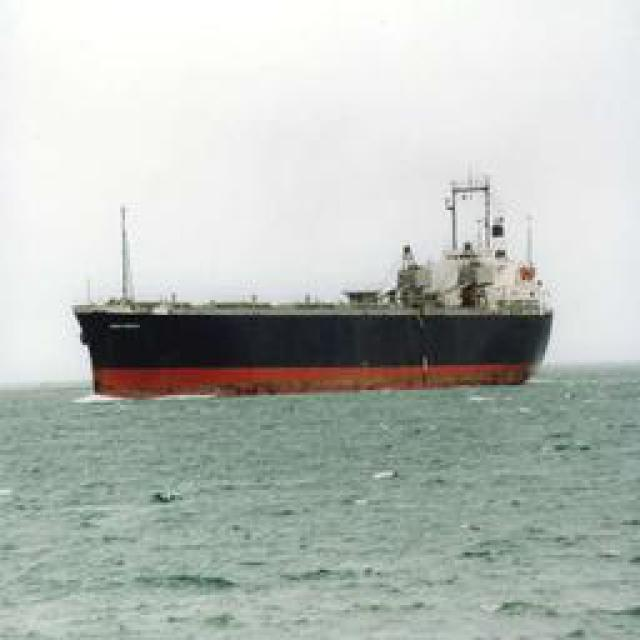Ship: (75, 160, 555, 400)
